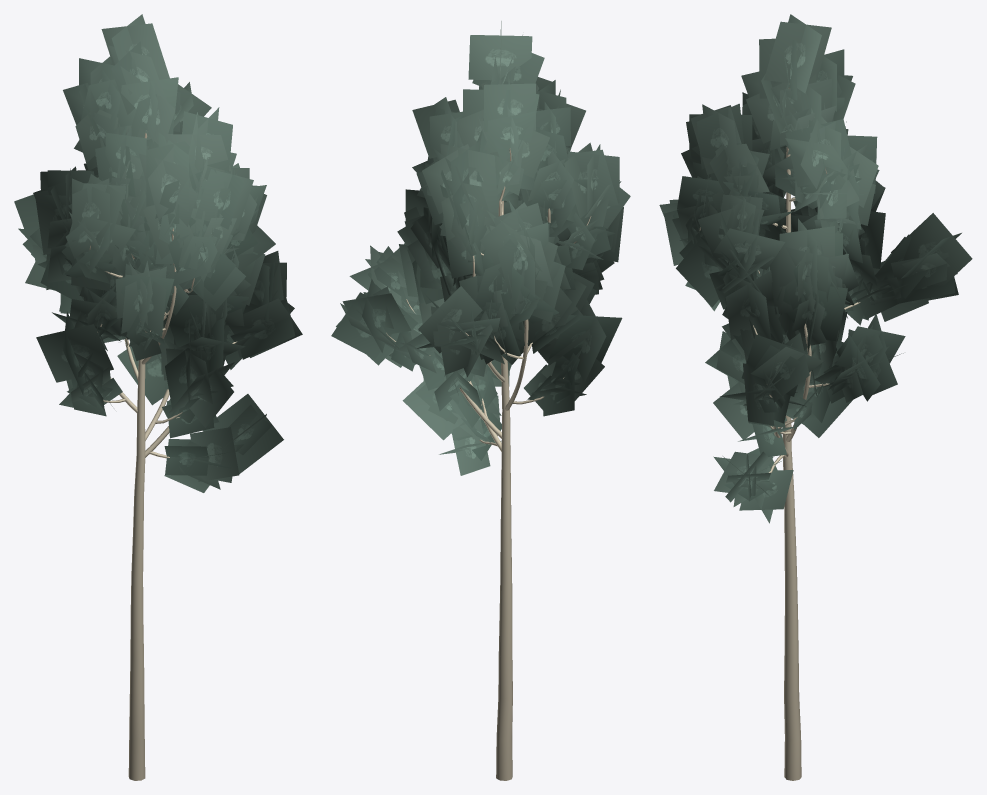
The model's file is eucalipto-alto.glb.
3 renders of one model, left to right at view 1: azimuth 30°, elevation 25°; view 2: azimuth 150°, elevation 25°; view 3: azimuth 270°, elevation 25°, orthographic.
Visible parts, largest first — view 1: eucalipto; view 2: eucalipto; view 3: eucalipto.
Boxes of the visible parts, bbox=[...] form: eucalipto: bbox=[14, 14, 302, 780]; eucalipto: bbox=[331, 21, 630, 780]; eucalipto: bbox=[659, 14, 972, 780].
Size of the model in its own units: 6.86 by 20 by 7.47.
Materials: 2 (1 with a texture image).
